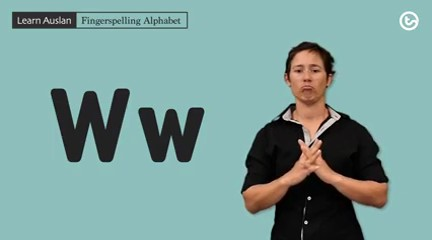W: (288, 131, 333, 185)
